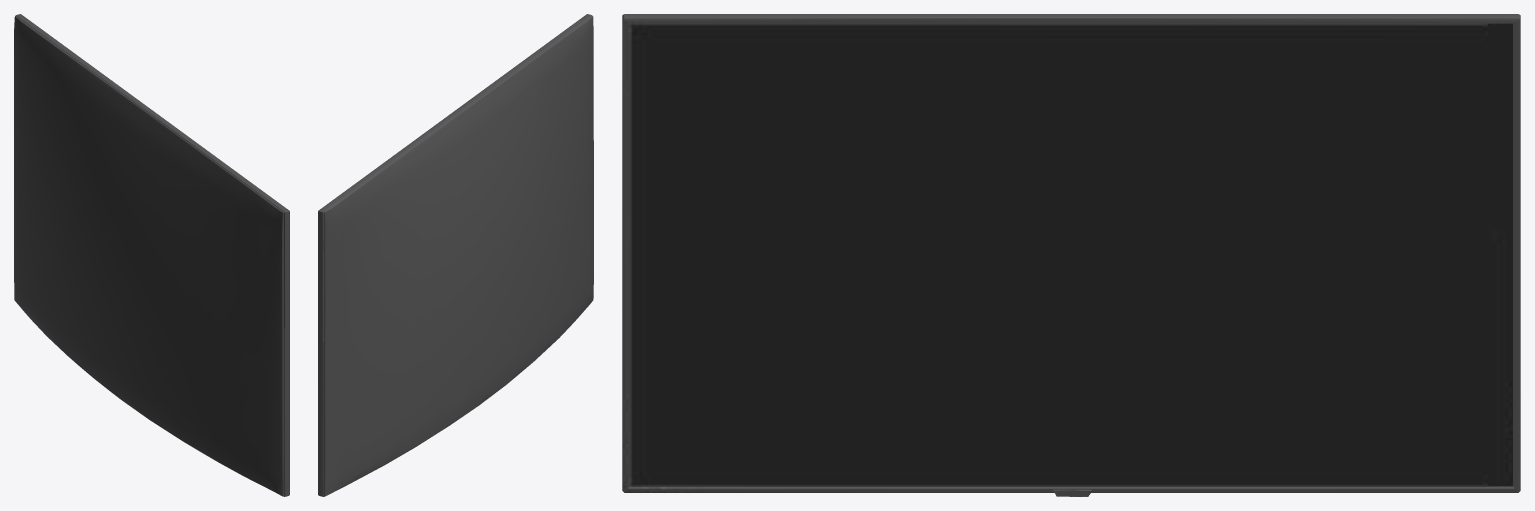
The model's file is WallTelevision0001.obj.
The picture shows the model from 3 angles, left to right: view 1: azimuth 30°, elevation 25°; view 2: azimuth 150°, elevation 25°; view 3: azimuth 270°, elevation 25°; orthographic projection. The views are drawn at different scales.
Bounding box in the file's own units: 0.094 × 0.788 × 1.34.
1 material, 1 textured.
